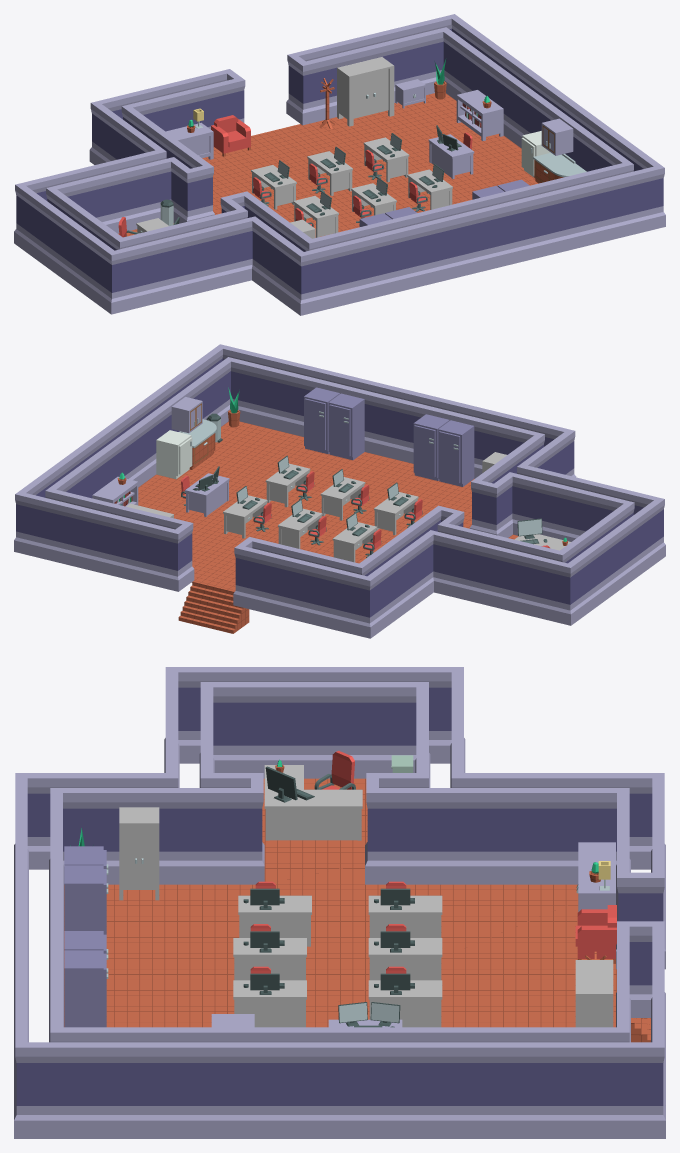
File: Office1-05-F2.dae
3 views of the same model, one above another, from view 1: azimuth 30°, elevation 25°; view 2: azimuth 150°, elevation 25°; view 3: azimuth 270°, elevation 25° (orthographic). The views are drawn at different scales.
Parts seen in each view (by area): view 1: wall (×18), porch_floorCenter, wall_corner (×13), desk (×7), bookcaseClosedDoors, cabinetTelevisionDoors (×2), cabinetTelevision, loungeChair, kitchenCabinetUpperDouble, kitchenFridgeSmall, kitchenCabinet; view 2: wall (×18), porch_floorCenter, wall_corner (×13), kitchenFridge (×4), desk (×7), stairs_small_x0025_, kitchenFridgeSmall, kitchenCabinetUpperDouble, cabinetTelevision, kitchenCabinet, computerScreen; view 3: wall (×18), porch_floorCenter (×3), wall_corner (×16), desk (×6), kitchenFridge (×4), bookcaseClosedDoors (×2), deskCorner, cabinetTelevisionDoors, loungeChair, chairDesk, computerScreen.
Part boxes in pixels (<box>): wall (×18): <box>24,18,654,311</box>; porch_floorCenter: <box>202,93,538,237</box>; wall_corner (×13): <box>14,27,665,315</box>; desk (×7): <box>251,134,474,237</box>; bookcaseClosedDoors: <box>337,57,394,126</box>; cabinetTelevisionDoors (×2): <box>166,79,425,159</box>; cabinetTelevision: <box>456,90,503,141</box>; loungeChair: <box>211,115,250,156</box>; kitchenCabinetUpperDouble: <box>541,118,573,155</box>; kitchenFridgeSmall: <box>521,131,550,177</box>; kitchenCabinet: <box>533,153,574,183</box>; wall (×18): <box>25,348,655,634</box>; porch_floorCenter: <box>138,421,474,590</box>; wall_corner (×13): <box>14,357,665,638</box>; kitchenFridge (×4): <box>304,387,474,486</box>; desk (×7): <box>185,463,418,562</box>; stairs_small_x0025_: <box>178,580,249,633</box>; kitchenFridgeSmall: <box>156,430,192,479</box>; kitchenCabinetUpperDouble: <box>171,397,202,433</box>; cabinetTelevision: <box>92,476,138,506</box>; kitchenCabinet: <box>179,431,210,469</box>; computerScreen: <box>517,518,542,539</box>; wall (×18): <box>14,667,665,1138</box>; porch_floorCenter (×3): <box>64,778,615,1027</box>; wall_corner (×16): <box>14,667,665,1138</box>; desk (×6): <box>233,895,442,1027</box>; kitchenFridge (×4): <box>64,846,108,1027</box>; bookcaseClosedDoors (×2): <box>119,807,613,1027</box>; deskCorner: <box>264,765,362,840</box>; cabinetTelevisionDoors: <box>576,842,615,911</box>; loungeChair: <box>575,905,616,963</box>; chairDesk: <box>314,750,355,789</box>; computerScreen: <box>265,766,297,802</box>.
Bounding box in the file's own units: 18 × 3 × 13.
